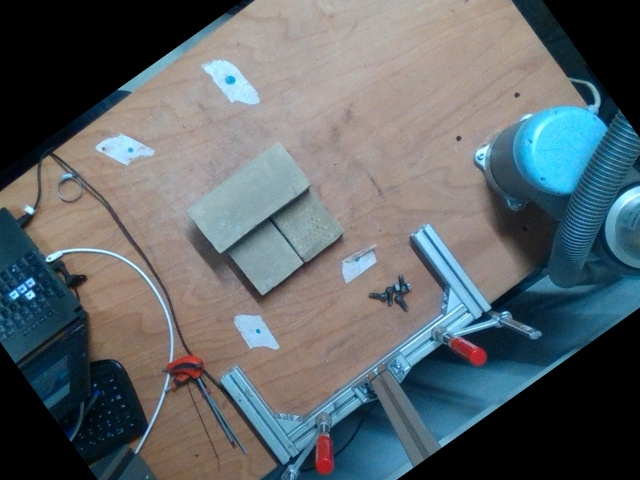brick: (186, 139, 312, 253)
